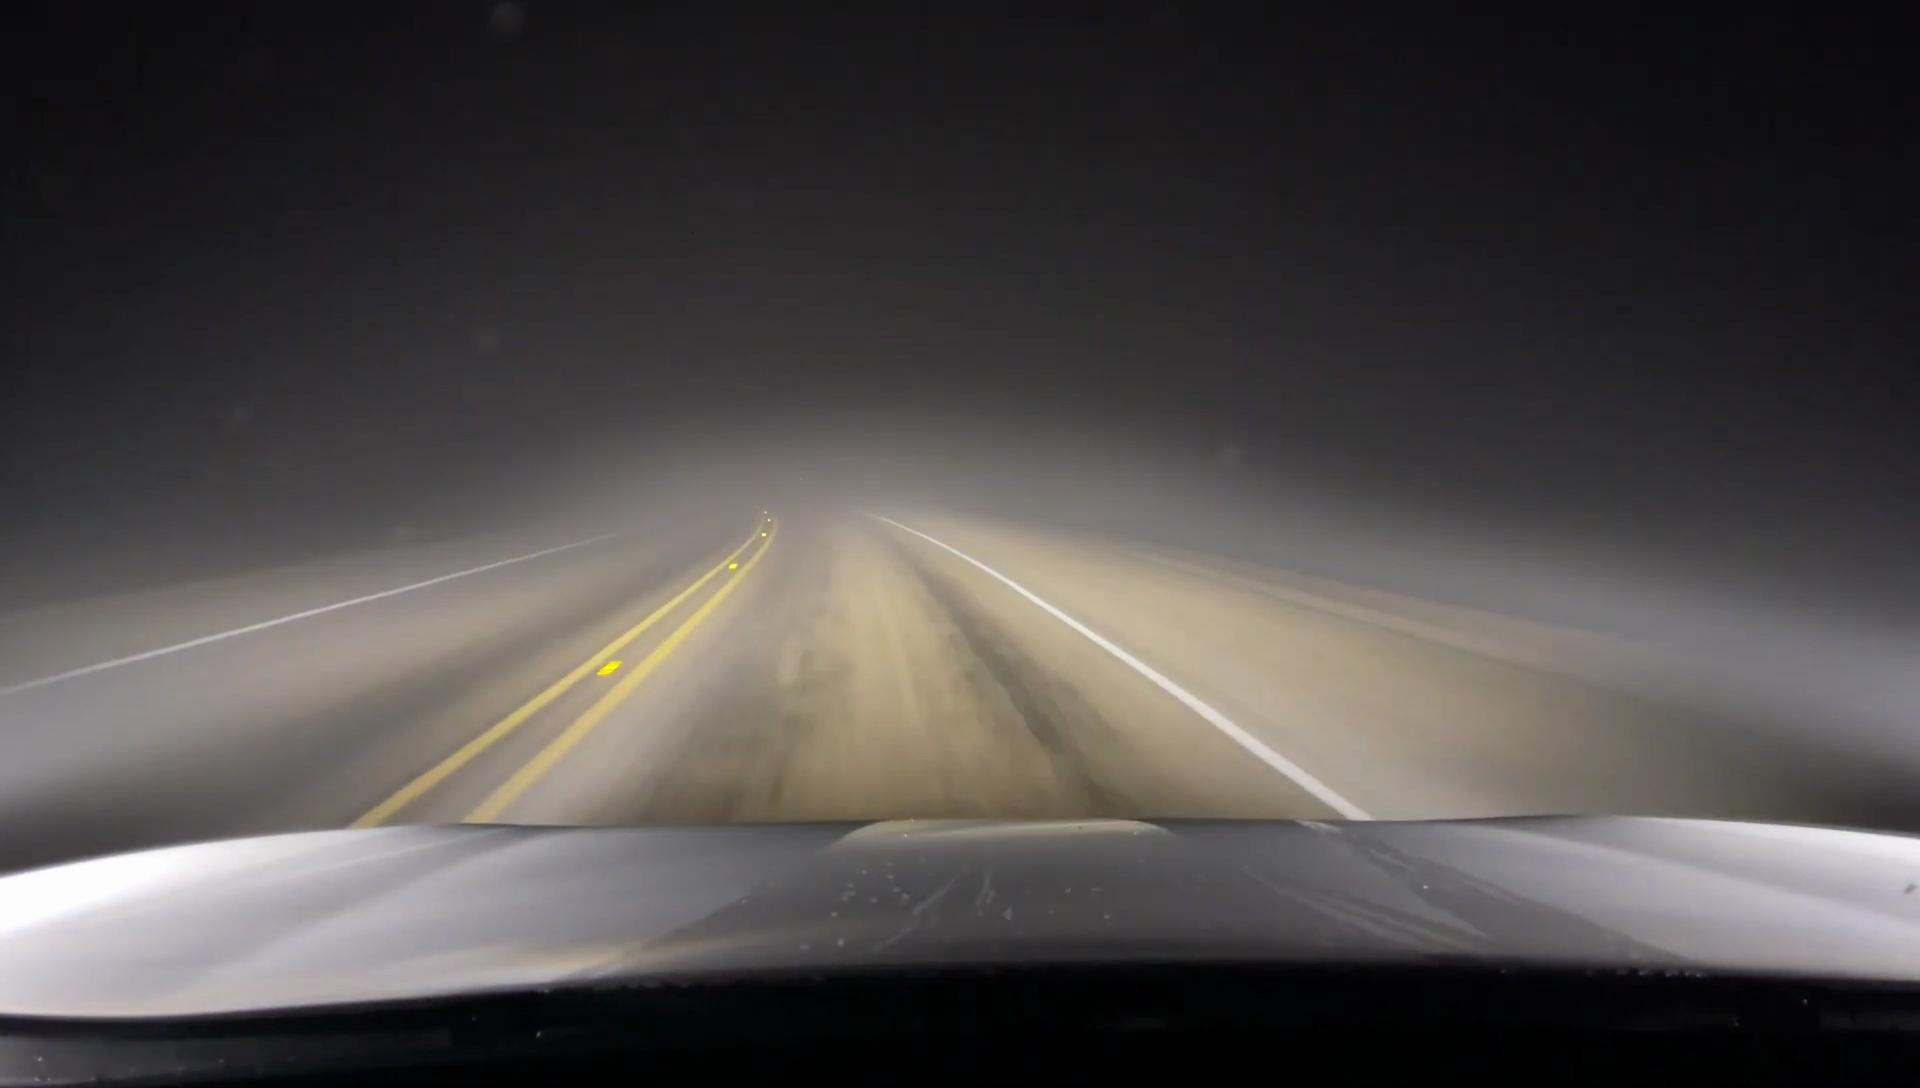road-lanes: (530, 526, 1298, 808)
